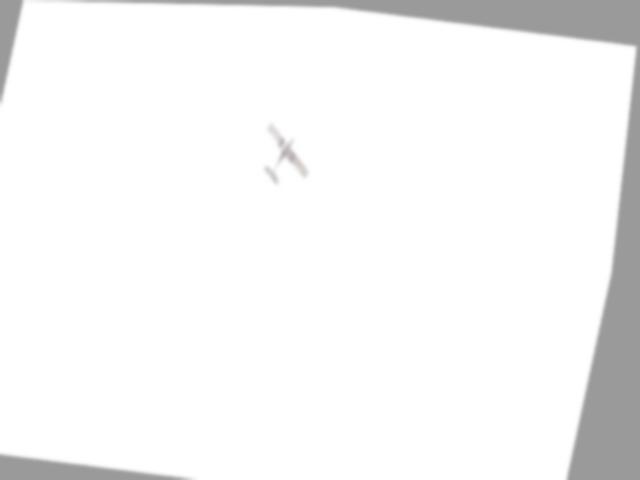uav: (258, 116, 324, 187)
